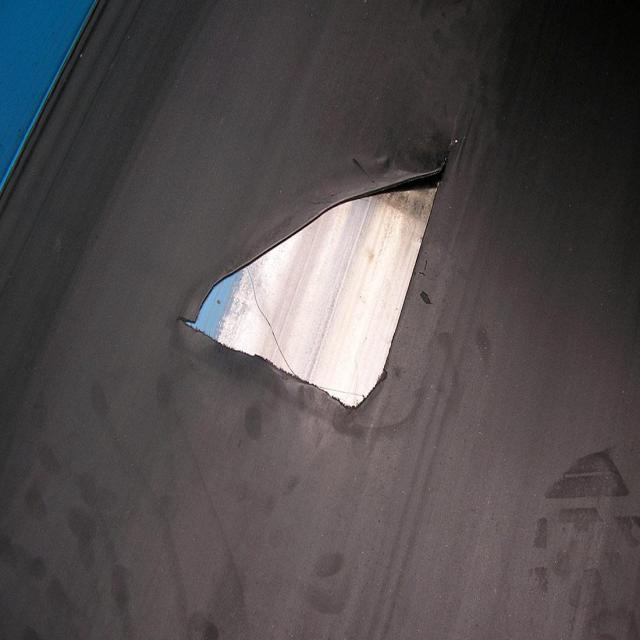Hole: (174, 152, 456, 416)
